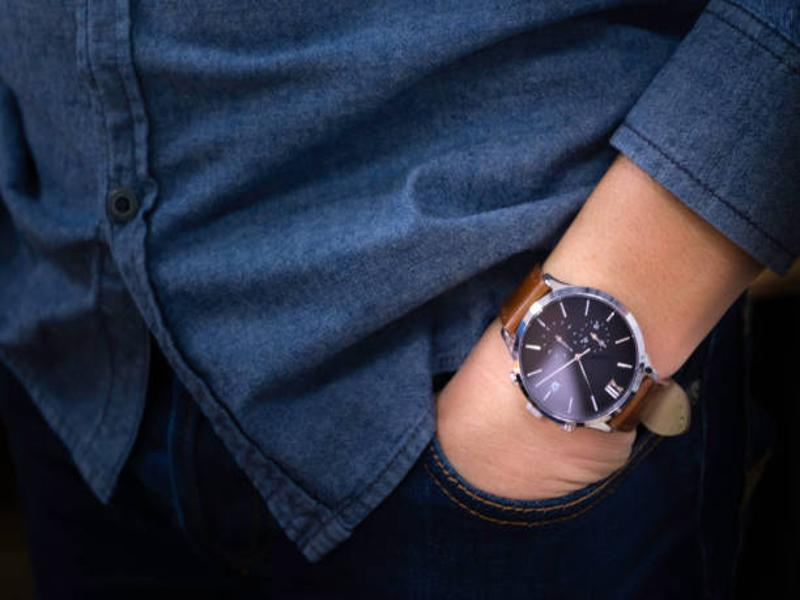watch: (499, 271, 692, 439)
